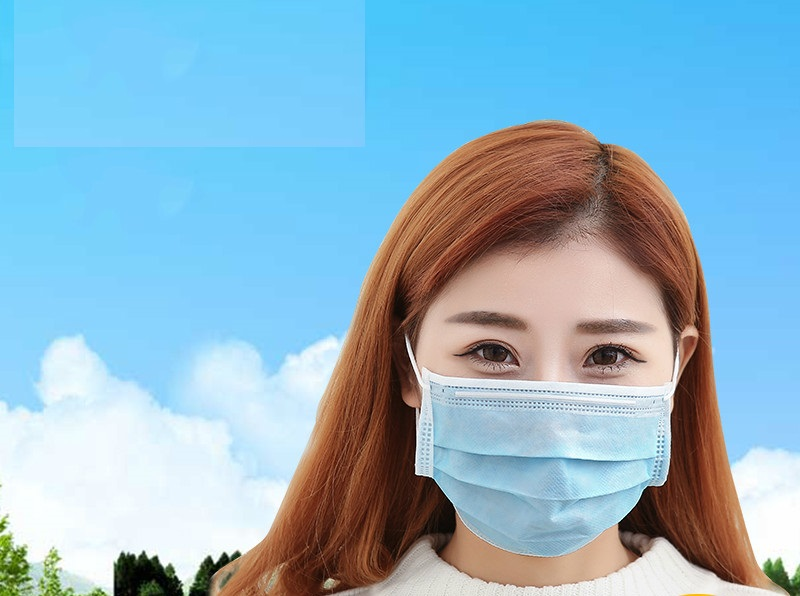face_mask: (419, 239, 670, 551)
